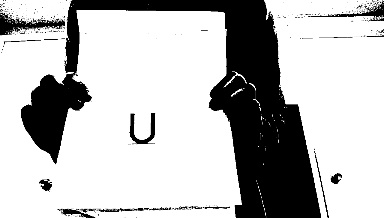U: (123, 112, 158, 142)
